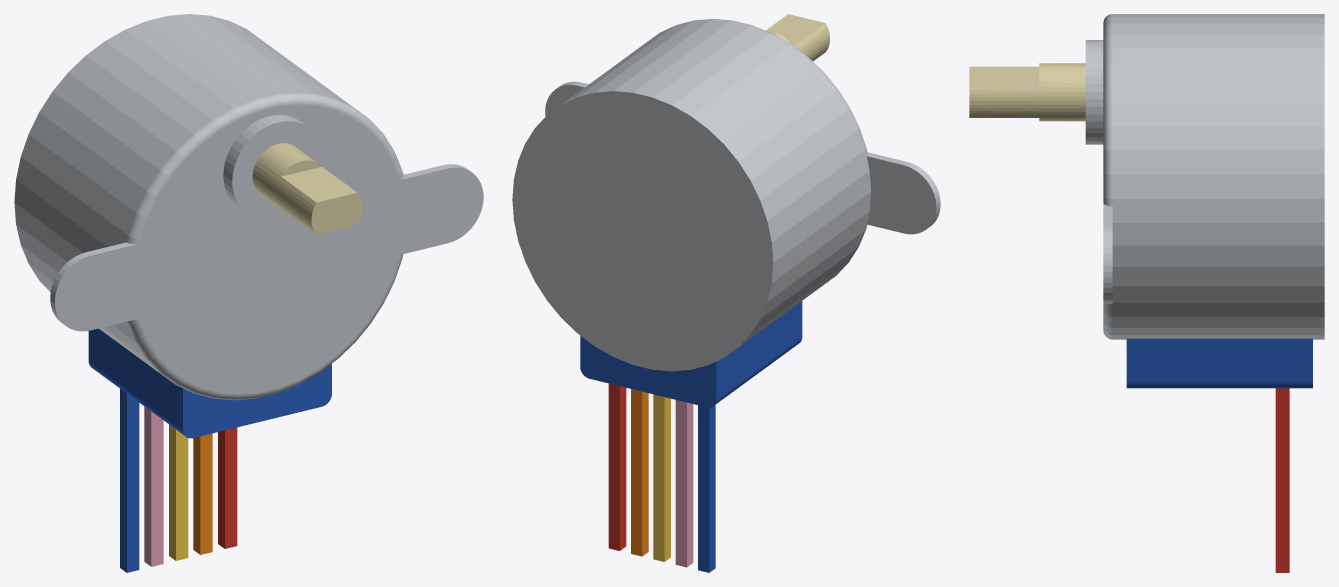
The picture shows the model from 3 angles, left to right: view 1: azimuth 30°, elevation 25°; view 2: azimuth 150°, elevation 25°; view 3: azimuth 270°, elevation 25°; orthographic projection. The views are drawn at different scales.
Visible parts, largest first — view 1: g0-metal, g2-plastic, g1-metal, g3-plastic, g4-plastic, g6-plastic, g5-plastic; view 2: g0-metal, g2-plastic, g3-plastic, g6-plastic, g4-plastic, g5-plastic, g1-metal; view 3: g0-metal, g2-plastic, g1-metal, g6-plastic.
Boxes of the visible parts, box(x1,y1,x2,y2) form: g0-metal: box(14, 14, 483, 400); g2-plastic: box(88, 328, 331, 572); g1-metal: box(252, 143, 362, 234); g3-plastic: box(144, 406, 163, 566); g4-plastic: box(169, 424, 188, 560); g6-plastic: box(218, 427, 237, 548); g5-plastic: box(193, 433, 212, 554); g0-metal: box(512, 19, 940, 371); g2-plastic: box(580, 301, 802, 572); g3-plastic: box(675, 400, 693, 567); g6-plastic: box(608, 383, 626, 550); g4-plastic: box(653, 394, 670, 561); g5-plastic: box(631, 389, 648, 556); g1-metal: box(766, 14, 829, 60); g0-metal: box(1085, 14, 1324, 339); g2-plastic: box(1126, 338, 1312, 388); g1-metal: box(969, 63, 1085, 121); g6-plastic: box(1275, 388, 1289, 572).
Bounding box in the file's own units: 41.98 × 48.96 × 30.5.
